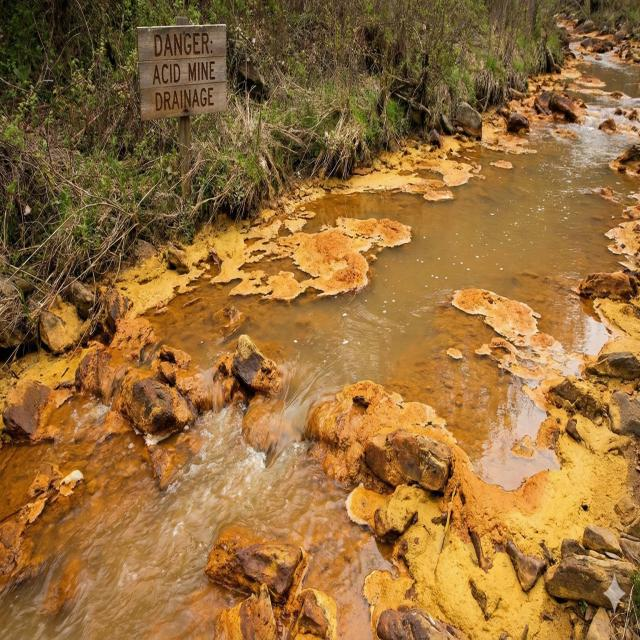yellow_boy: (9, 120, 640, 638), (151, 282, 236, 368), (583, 57, 640, 105)
